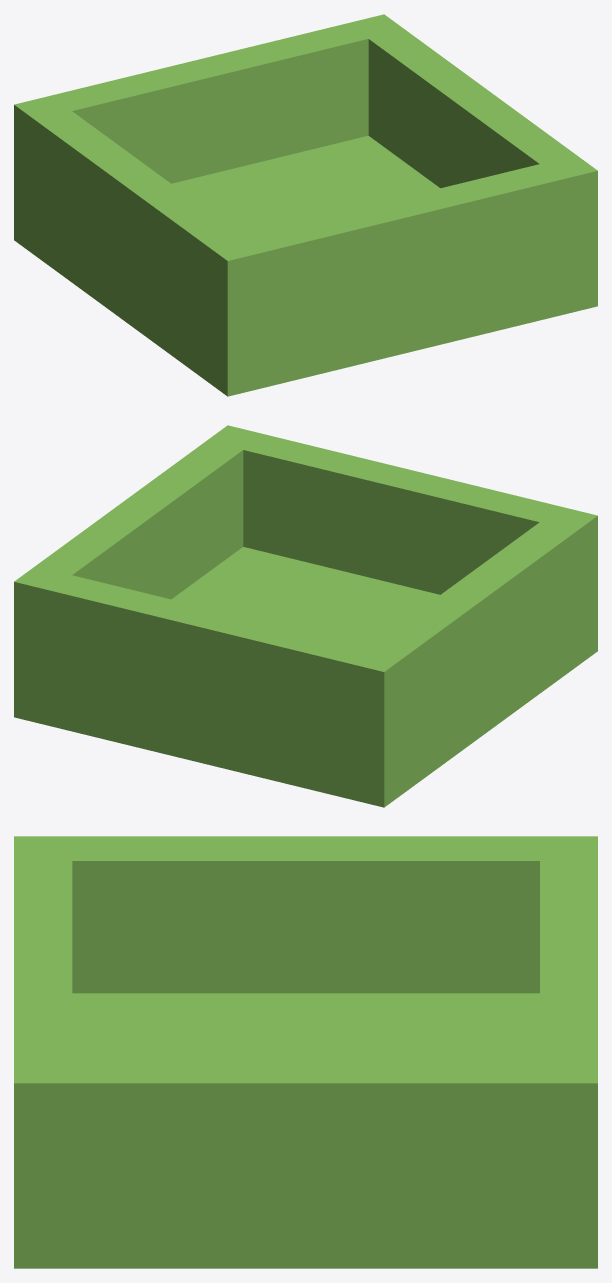
Rendered from LimeRoof_4Edges_Small.glb.
The picture shows the model from 3 angles, top to bottom: view 1: azimuth 30°, elevation 25°; view 2: azimuth 150°, elevation 25°; view 3: azimuth 270°, elevation 25°; orthographic projection. The views are drawn at different scales.
Visible parts, largest first — view 1: roof_flat_4Edges_small_lime; view 2: roof_flat_4Edges_small_lime; view 3: roof_flat_4Edges_small_lime.
Boxes of the visible parts, box(x1,y1,x2,y2) form: roof_flat_4Edges_small_lime: box(14, 14, 597, 396); roof_flat_4Edges_small_lime: box(14, 425, 597, 807); roof_flat_4Edges_small_lime: box(14, 836, 597, 1268).
Size of what is drawn, in the model's own units: 2 by 0.7 by 2.
Materials: 1 (1 with a texture image).
